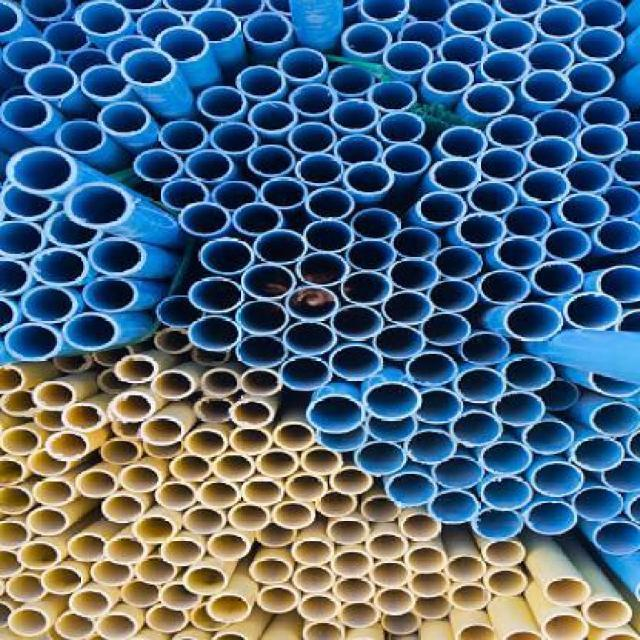pipe: (6, 146, 77, 194), (65, 182, 133, 228), (502, 303, 564, 342), (44, 210, 103, 249), (563, 292, 622, 331), (61, 312, 120, 351), (363, 382, 423, 420), (89, 237, 146, 276), (30, 249, 90, 286), (306, 395, 363, 433), (20, 286, 78, 323), (5, 323, 61, 361), (0, 183, 58, 219), (75, 0, 131, 37), (121, 49, 177, 86), (83, 277, 139, 313), (24, 64, 80, 100), (199, 239, 256, 274), (254, 229, 309, 265), (241, 264, 296, 300), (188, 277, 243, 313), (449, 411, 503, 447), (2, 37, 56, 73), (98, 101, 151, 137), (575, 123, 628, 159), (297, 251, 350, 287), (531, 261, 584, 297), (493, 391, 546, 427), (156, 26, 209, 62), (523, 420, 576, 456), (532, 461, 585, 497), (80, 65, 133, 101), (521, 69, 574, 105), (0, 220, 48, 259), (179, 202, 232, 237), (189, 316, 242, 351), (454, 368, 507, 403), (415, 192, 469, 226), (534, 4, 585, 40), (286, 286, 340, 320), (236, 300, 290, 334), (330, 306, 384, 340), (329, 346, 383, 380), (571, 437, 625, 471), (479, 476, 533, 510), (427, 490, 478, 526), (382, 39, 433, 75), (0, 95, 52, 130), (519, 170, 572, 204), (558, 193, 611, 227), (232, 202, 285, 236), (494, 236, 547, 270), (478, 270, 531, 304), (340, 272, 393, 306), (381, 292, 434, 326), (419, 312, 472, 346), (405, 352, 458, 386), (280, 356, 333, 390), (502, 356, 555, 390), (405, 430, 458, 464), (480, 442, 533, 476), (355, 442, 408, 476), (431, 456, 484, 490), (385, 472, 438, 506), (571, 487, 624, 521), (467, 181, 520, 214), (388, 258, 441, 291), (373, 326, 426, 359), (236, 335, 289, 368), (486, 115, 537, 149), (56, 120, 107, 154), (527, 136, 578, 170), (429, 158, 480, 192), (456, 213, 507, 247), (189, 8, 240, 42), (423, 61, 474, 95), (462, 82, 513, 116), (590, 402, 638, 438), (329, 98, 380, 131), (247, 101, 298, 134), (437, 126, 488, 159), (344, 161, 395, 194), (303, 219, 354, 252), (346, 239, 397, 272), (427, 280, 478, 313), (156, 295, 207, 328), (459, 332, 510, 365), (342, 23, 393, 56), (437, 35, 488, 68), (480, 51, 531, 84), (196, 86, 247, 119), (415, 390, 463, 425), (158, 119, 207, 153), (296, 152, 345, 186), (566, 62, 615, 96), (237, 66, 286, 100), (290, 83, 339, 117), (573, 29, 626, 60), (597, 265, 639, 304), (477, 148, 526, 181), (133, 149, 182, 182), (447, 1, 496, 34), (564, 161, 613, 194), (260, 177, 309, 210), (160, 178, 209, 211), (306, 187, 355, 220), (502, 205, 551, 238), (351, 208, 400, 241), (543, 228, 592, 261), (245, 12, 294, 45), (487, 18, 536, 51), (530, 378, 579, 411), (378, 111, 426, 144), (211, 122, 259, 155), (382, 143, 430, 176), (247, 145, 295, 178), (185, 149, 233, 182), (434, 247, 482, 280), (43, 21, 91, 54), (472, 508, 523, 539), (525, 42, 576, 73), (278, 49, 329, 80), (366, 81, 417, 112), (594, 218, 639, 253), (593, 522, 639, 556), (288, 122, 337, 153), (138, 9, 187, 40), (392, 227, 441, 258), (532, 109, 580, 140), (335, 135, 383, 166), (584, 598, 632, 629), (316, 424, 369, 452), (579, 98, 630, 127), (66, 49, 117, 77), (213, 180, 259, 211), (365, 416, 419, 442), (398, 20, 446, 49), (107, 36, 155, 65), (63, 402, 107, 433), (578, 0, 626, 28), (229, 399, 277, 427), (546, 577, 592, 606), (33, 380, 76, 411), (112, 392, 155, 423), (600, 458, 639, 492), (45, 431, 90, 460), (598, 187, 640, 218), (151, 371, 197, 399), (183, 567, 229, 595), (271, 502, 316, 530), (181, 507, 226, 535), (132, 515, 177, 543), (207, 532, 252, 560), (104, 537, 149, 565), (158, 582, 203, 610), (207, 594, 252, 622), (0, 257, 32, 296), (541, 613, 589, 639), (140, 417, 183, 446), (102, 494, 145, 523), (358, 0, 411, 23), (33, 477, 75, 506), (116, 355, 159, 383), (230, 427, 273, 455), (300, 447, 343, 475), (28, 449, 71, 477), (256, 450, 299, 478), (330, 467, 373, 495), (286, 474, 329, 502), (241, 478, 284, 506), (154, 482, 197, 510), (161, 538, 204, 566), (483, 539, 526, 567), (135, 557, 178, 585), (486, 569, 529, 597), (373, 588, 416, 616), (146, 605, 189, 633), (7, 609, 50, 637), (273, 422, 315, 450), (118, 464, 160, 492), (75, 470, 117, 498), (360, 495, 402, 523), (398, 513, 440, 541), (18, 542, 60, 570), (405, 546, 447, 574), (41, 567, 83, 595), (6, 574, 48, 602), (258, 585, 300, 613), (201, 368, 241, 397), (198, 481, 239, 509), (228, 503, 269, 531), (95, 612, 136, 640), (20, 0, 71, 22), (1, 427, 41, 455), (214, 453, 254, 481), (28, 508, 68, 536), (293, 538, 333, 566), (446, 554, 486, 582), (120, 579, 160, 607), (170, 456, 213, 482), (255, 521, 298, 547), (366, 534, 409, 560), (250, 557, 293, 583), (327, 519, 369, 545), (68, 534, 107, 562), (333, 549, 372, 577), (408, 572, 450, 598), (333, 577, 375, 603), (68, 590, 110, 616), (192, 603, 231, 631), (241, 370, 282, 396), (186, 431, 227, 457), (315, 492, 357, 517), (368, 562, 410, 587), (449, 585, 491, 610), (54, 614, 96, 639), (294, 566, 334, 592), (299, 594, 339, 620), (0, 389, 38, 416), (98, 369, 137, 395), (195, 396, 234, 422), (101, 439, 140, 465), (413, 595, 453, 620), (340, 602, 380, 627), (154, 329, 193, 354), (611, 152, 639, 186), (0, 520, 32, 549), (93, 345, 135, 367), (380, 613, 422, 635), (216, 0, 265, 18), (0, 456, 28, 487), (0, 487, 32, 514), (301, 621, 346, 640), (496, 0, 545, 17), (161, 0, 213, 15), (142, 440, 184, 458), (0, 365, 26, 394), (453, 623, 498, 639), (54, 354, 93, 372), (35, 409, 66, 431), (193, 349, 230, 366), (0, 551, 23, 577)
